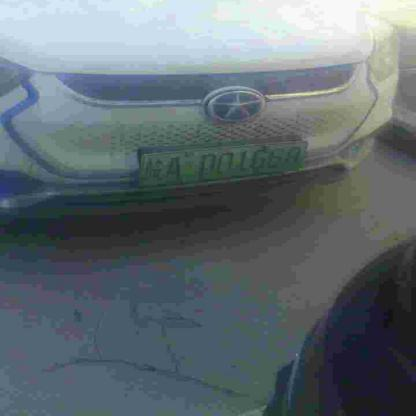lp: (140, 140, 305, 187)
